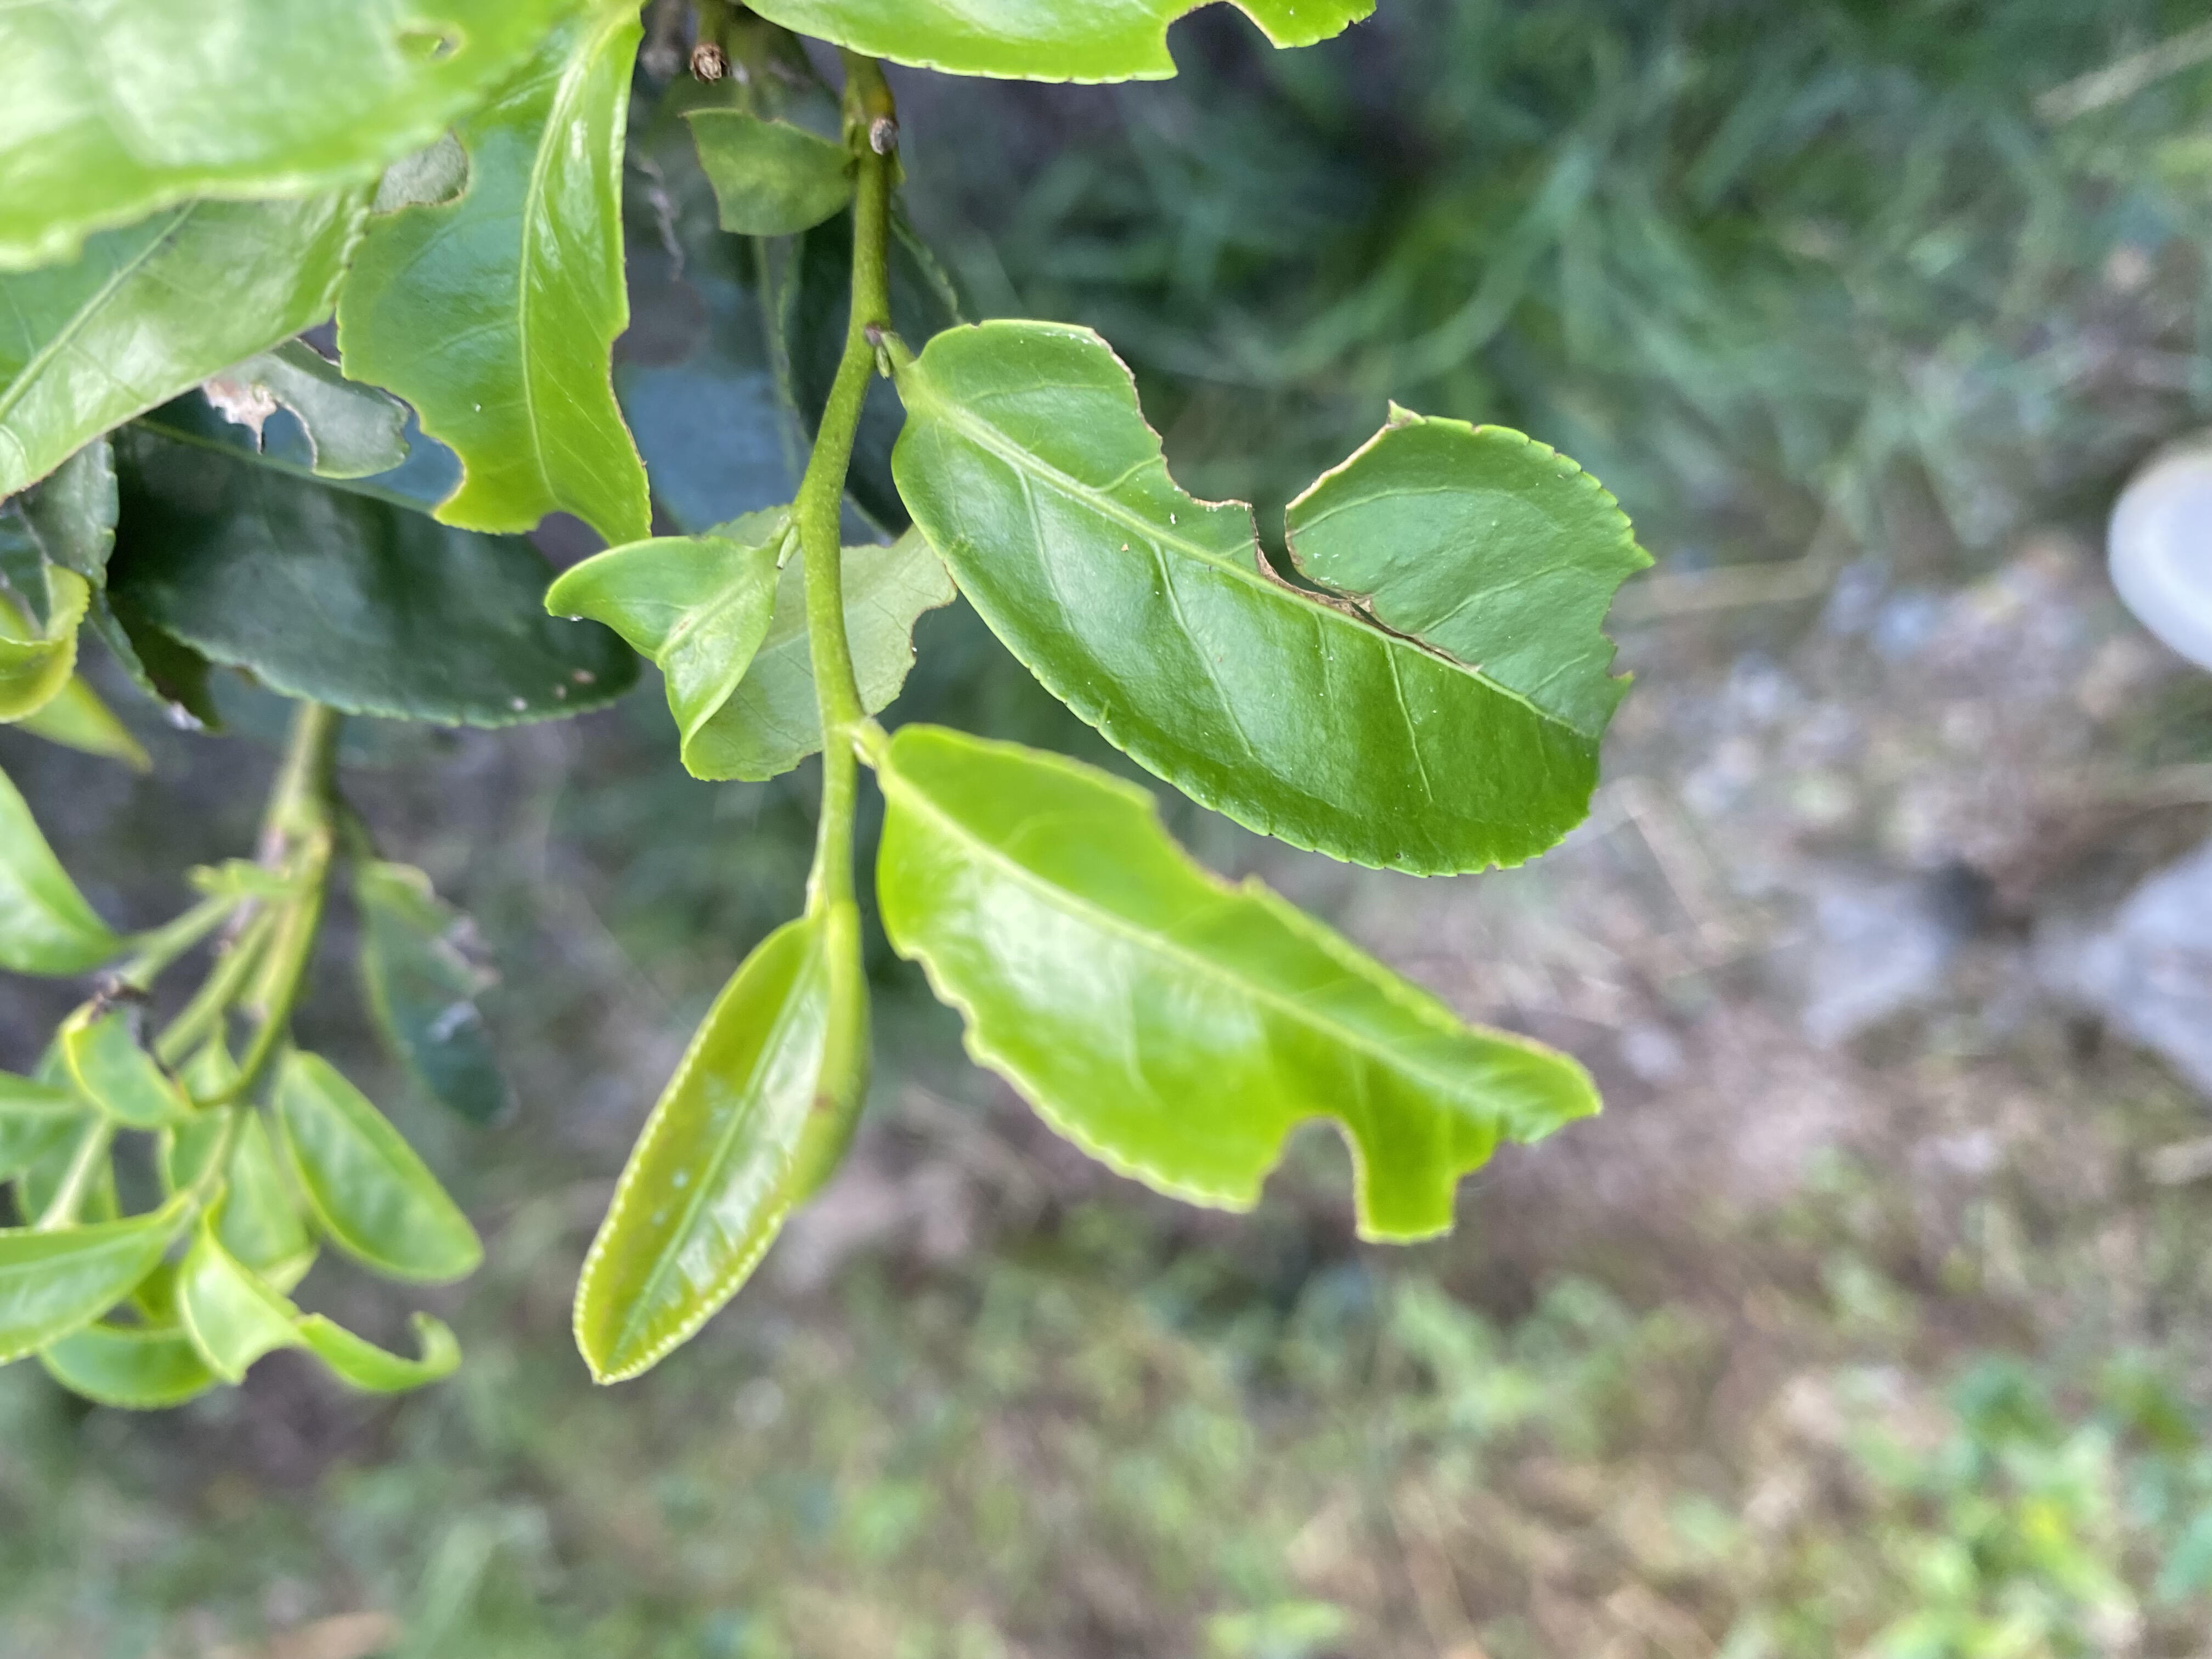chihuo_high: (888, 312, 1658, 880), (876, 720, 1608, 1253), (334, 7, 658, 544)
chihuo_low: (742, 2, 1392, 87)
healthy: (570, 918, 869, 1387)
